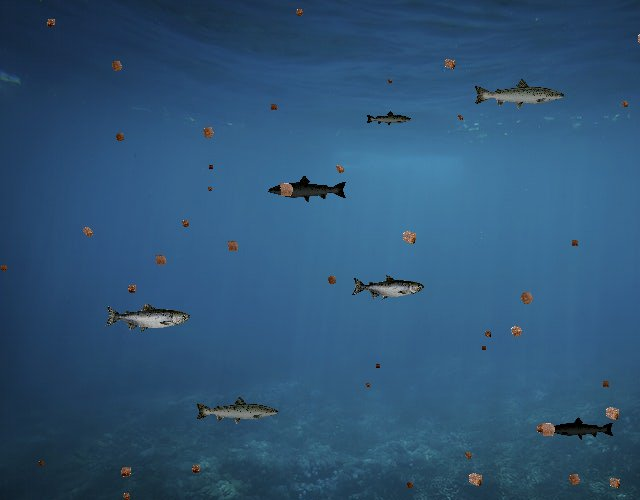Fish: (473, 77, 567, 111), (194, 395, 280, 426), (104, 302, 190, 333), (268, 175, 349, 204), (352, 275, 425, 301), (547, 416, 615, 441), (365, 110, 412, 127)
Pellet: (514, 285, 540, 311), (504, 319, 529, 344), (76, 221, 98, 243), (480, 327, 494, 341), (204, 184, 214, 194)
